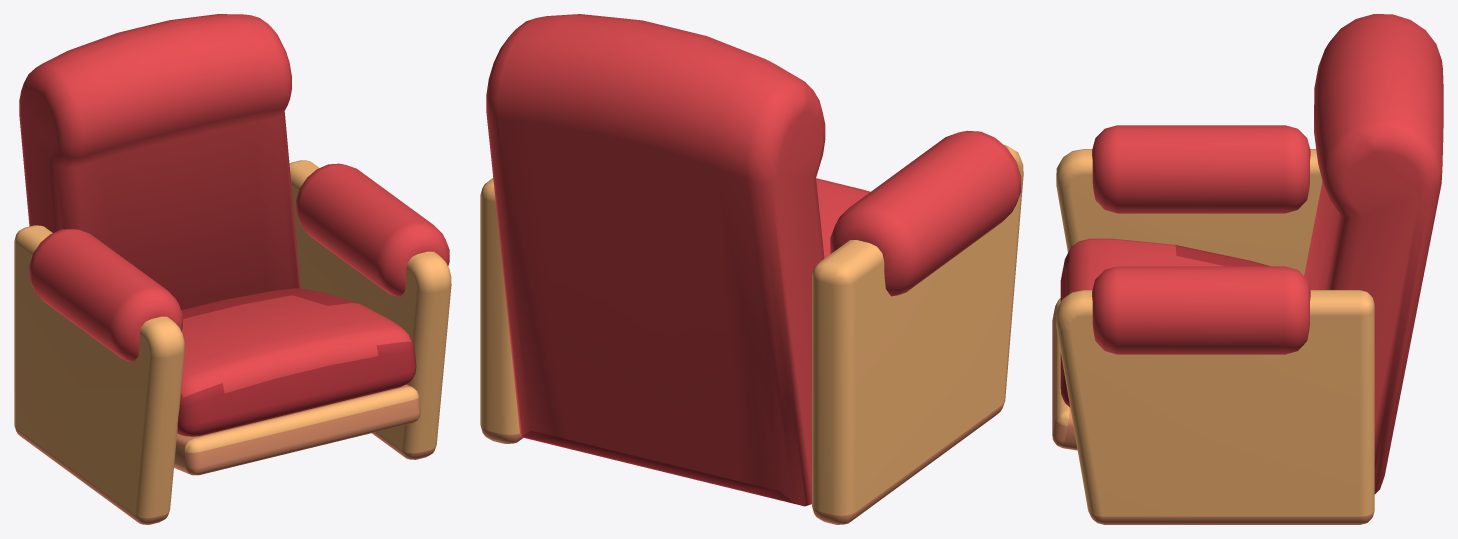
The model's file is poltrona_alta_vermelha_pacote.glb.
3 renders of one model, left to right at view 1: azimuth 30°, elevation 25°; view 2: azimuth 150°, elevation 25°; view 3: azimuth 270°, elevation 25°, orthographic. The views are drawn at different scales.
Visible parts, largest first — view 1: poltrona_alta_vermelha_pacote; view 2: poltrona_alta_vermelha_pacote; view 3: poltrona_alta_vermelha_pacote.
Part boxes in pixels (x1,y1,x2,y2): poltrona_alta_vermelha_pacote: (14,14,451,524); poltrona_alta_vermelha_pacote: (480,14,1023,524); poltrona_alta_vermelha_pacote: (1052,14,1443,524).
Size of the model in its own units: 1.01 by 1.05 by 0.9378.
1 material, 1 textured.
